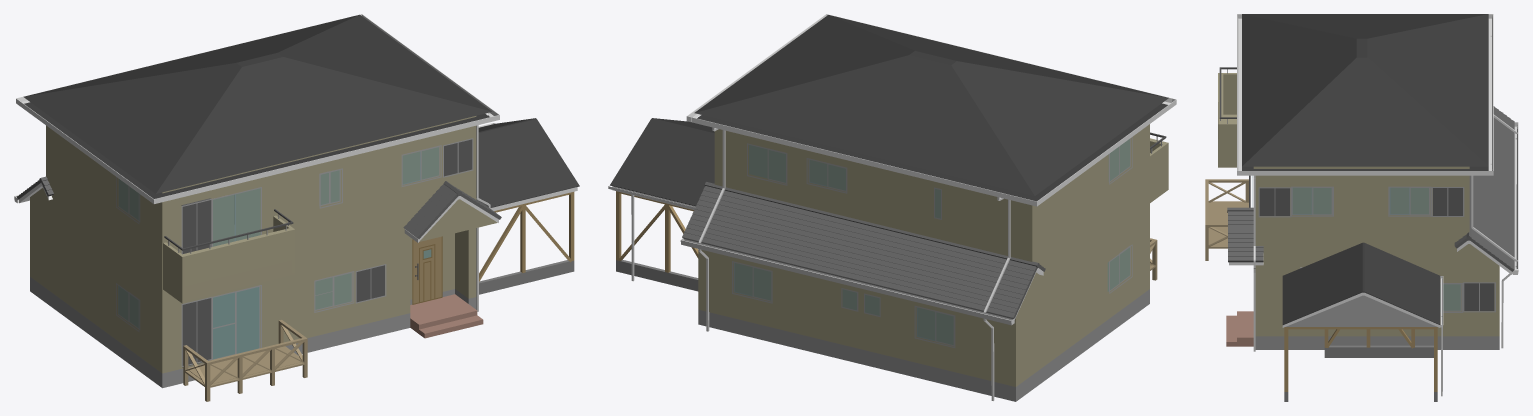
The model's file is House_003_middle.fbx.
3 renders of one model, left to right at view 1: azimuth 30°, elevation 25°; view 2: azimuth 150°, elevation 25°; view 3: azimuth 270°, elevation 25°, orthographic. The views are drawn at different scales.
Visible parts, largest first — view 1: pCube208; view 2: pCube208; view 3: pCube208.
Boxes of the visible parts, <box> form: pCube208: <box>14,14,579,401</box>; pCube208: <box>608,14,1176,401</box>; pCube208: <box>1205,14,1518,401</box>.
Size of the model in its own units: 1397 by 742 by 905.
